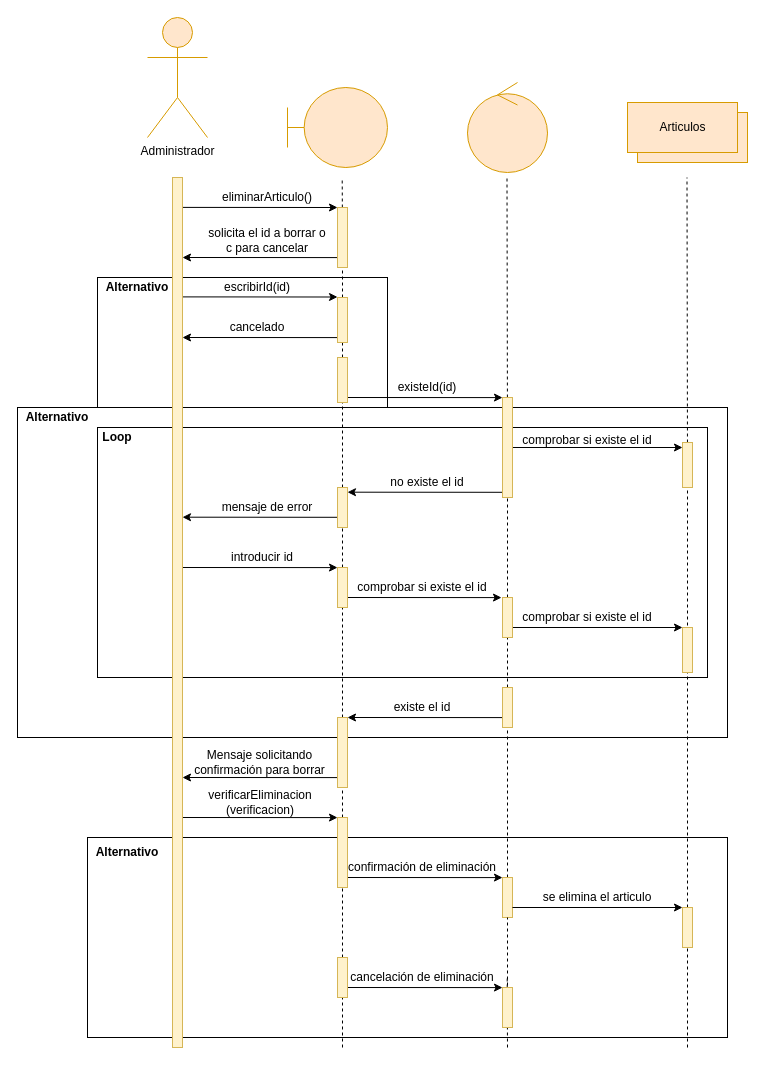
The diagram is 765 pixels wide and 1066 high, and some of its shapes have lost their labels. The shapes that lost their labels are listed below. From the top down, each one's centre as x and y in pixels, then its label:
At (337,127): "Articulo vista".
At (507,127): "Articulo controlador".
